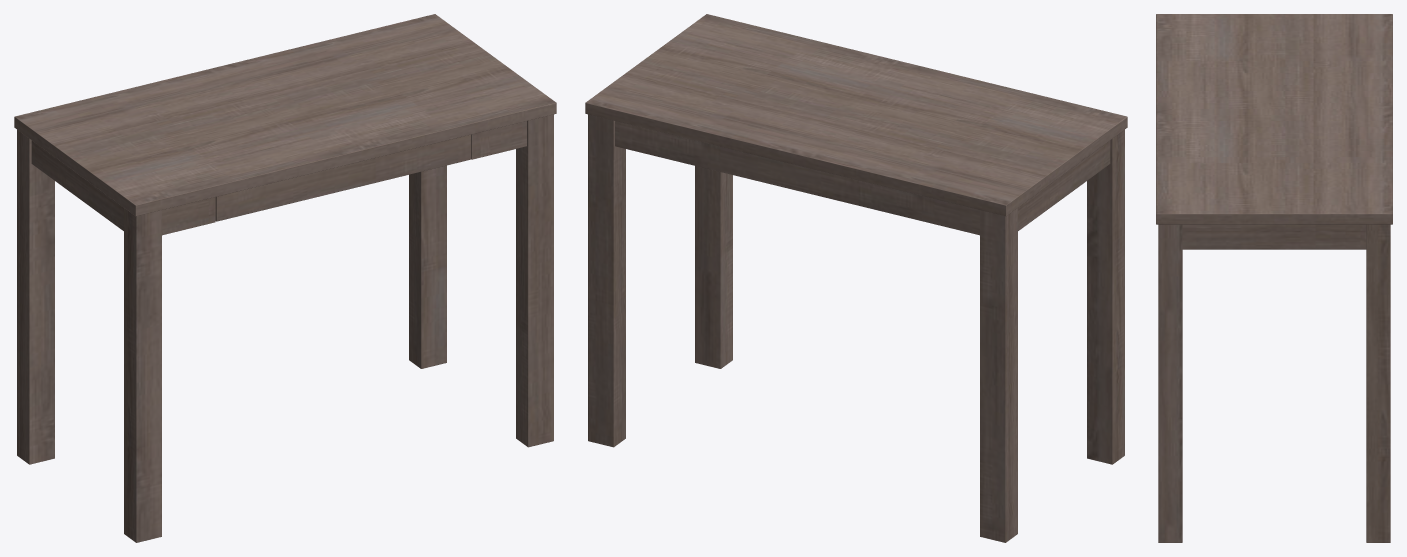
File: B07PXG7ZXF.glb
3 renders of one model, left to right at view 1: azimuth 30°, elevation 25°; view 2: azimuth 150°, elevation 25°; view 3: azimuth 270°, elevation 25°, orthographic. The views are drawn at different scales.
Visible parts, largest first — view 1: RootNode; view 2: RootNode; view 3: RootNode.
Part boxes in pixels (x1,y1,x2,y2): RootNode: (14, 14, 556, 542); RootNode: (585, 14, 1127, 542); RootNode: (1156, 14, 1392, 542).
Bounding box in the file's own units: 0.9906 × 0.7619 × 0.4953.
Materials: 1 (1 with a texture image).
